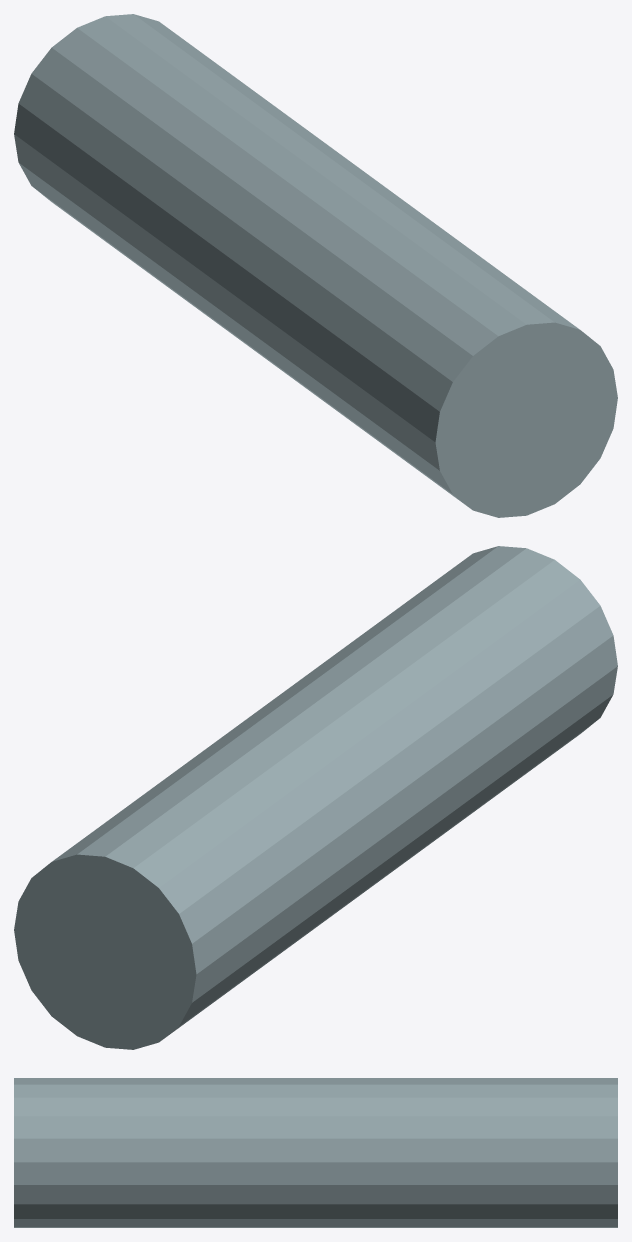
The model's file is Rotation 20mm v2.obj.
The picture shows the model from 3 angles, top to bottom: view 1: azimuth 30°, elevation 25°; view 2: azimuth 150°, elevation 25°; view 3: azimuth 270°, elevation 25°; orthographic projection. The views are drawn at different scales.
Parts seen in each view (by area): view 1: Rotation_20mm_v2; view 2: Rotation_20mm_v2; view 3: Rotation_20mm_v2.
Part boxes in pixels (left/top/right/bottom): Rotation_20mm_v2: left=14, top=14, right=617, bottom=517; Rotation_20mm_v2: left=14, top=546, right=617, bottom=1049; Rotation_20mm_v2: left=14, top=1078, right=617, bottom=1227.
Bounding box in the file's own units: 10 × 10 × 40.
